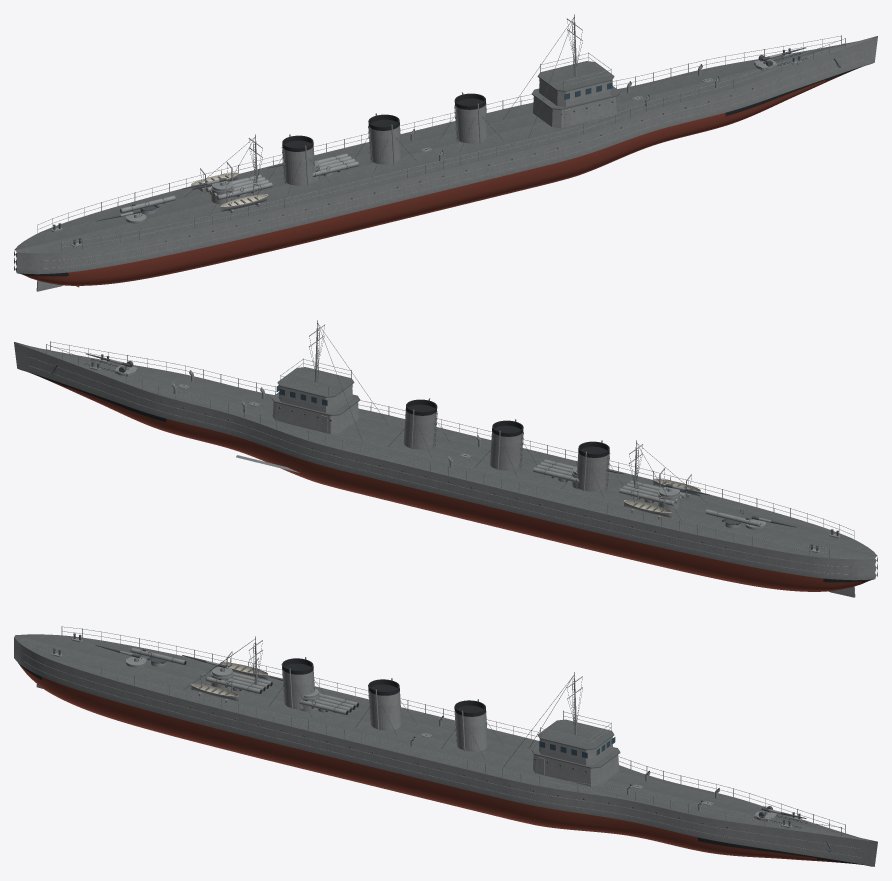
Rendered from novik_series.glb.
3 views of the same model, one above another, from view 1: azimuth 30°, elevation 25°; view 2: azimuth 150°, elevation 25°; view 3: azimuth 330°, elevation 25° (orthographic).
Parts seen in each view (by area): view 1: Novik type destroyer; view 2: Novik type destroyer; view 3: Novik type destroyer.
Boxes of the visible parts, x1,y1,x2,y2 form: Novik type destroyer: [14, 14, 877, 291]; Novik type destroyer: [14, 320, 877, 597]; Novik type destroyer: [14, 626, 877, 866].
Bounding box in the file's own units: 98 × 16.09 × 9.43.
8 materials, 2 textured.
